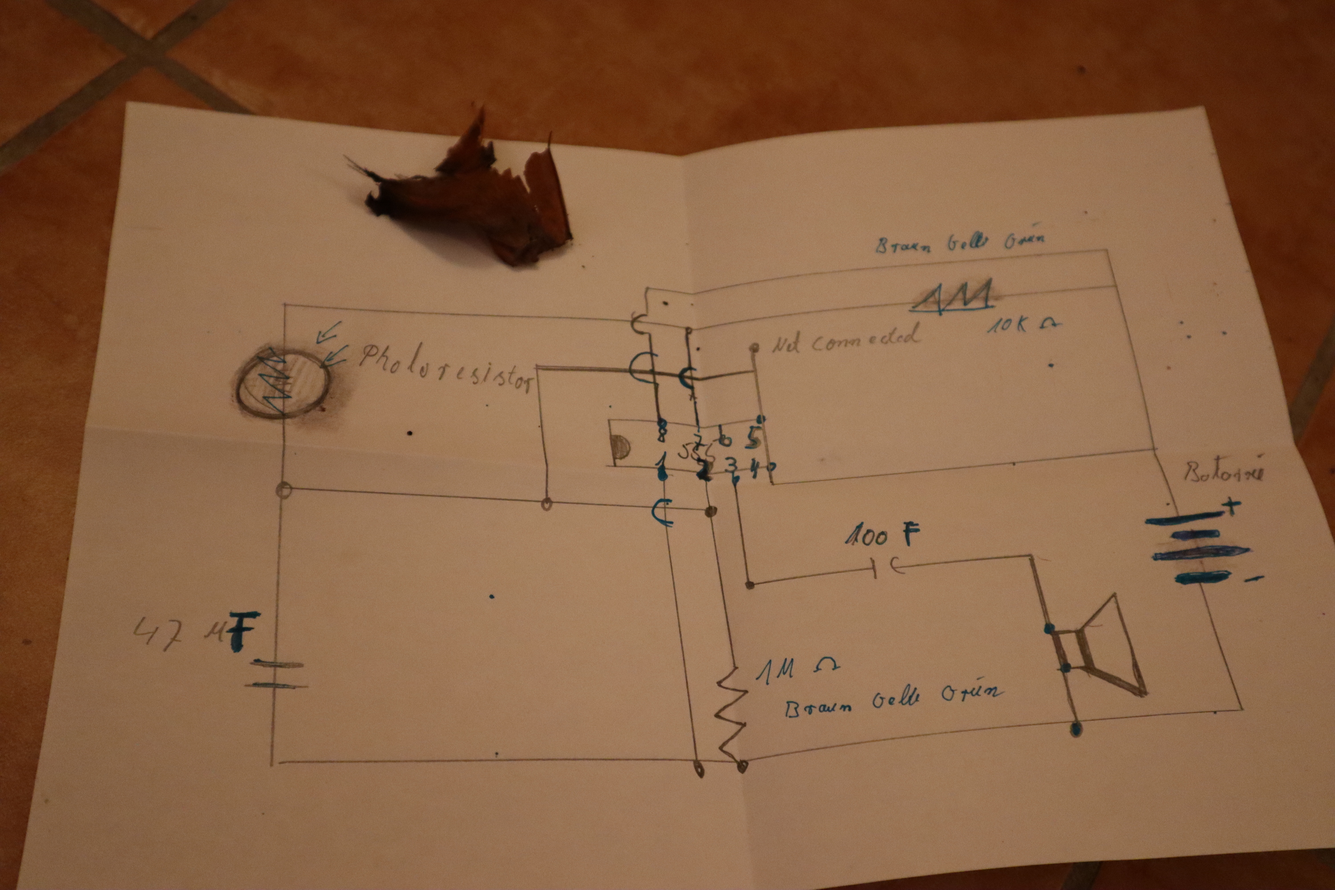capacitor.unpolarized: (243, 653, 311, 693), (864, 553, 903, 583)
crossover: (628, 351, 662, 384), (650, 497, 676, 528), (628, 308, 653, 336), (676, 362, 699, 389)
integrated_circuit.ne555: (603, 413, 778, 486)
junction: (1065, 714, 1087, 740), (273, 477, 295, 501), (690, 757, 707, 779), (1022, 547, 1040, 565), (265, 754, 283, 771), (538, 494, 554, 512), (703, 502, 719, 519), (1145, 441, 1161, 457), (735, 760, 750, 776), (1110, 279, 1123, 293), (743, 578, 756, 591), (748, 364, 761, 376), (682, 324, 694, 336), (531, 361, 543, 373), (1236, 703, 1247, 715), (1102, 244, 1113, 256), (641, 283, 652, 294), (279, 298, 289, 309), (767, 480, 777, 488)
resistor: (711, 664, 752, 763), (908, 275, 999, 318)
resistor.photo: (236, 320, 350, 424)
speaker: (1046, 590, 1149, 700)
terminal: (747, 340, 762, 356)
text: (782, 675, 1006, 723), (356, 339, 533, 398), (132, 610, 261, 653), (771, 320, 922, 356), (875, 227, 1047, 255), (756, 652, 846, 687), (1179, 453, 1268, 485), (841, 518, 922, 549), (987, 313, 1062, 335), (676, 439, 720, 464), (693, 458, 714, 483), (744, 424, 763, 450), (717, 424, 733, 448), (748, 457, 761, 480), (724, 456, 740, 473), (654, 449, 668, 468), (692, 433, 705, 452), (656, 427, 668, 445)
voltage.battery: (1135, 492, 1266, 593)
